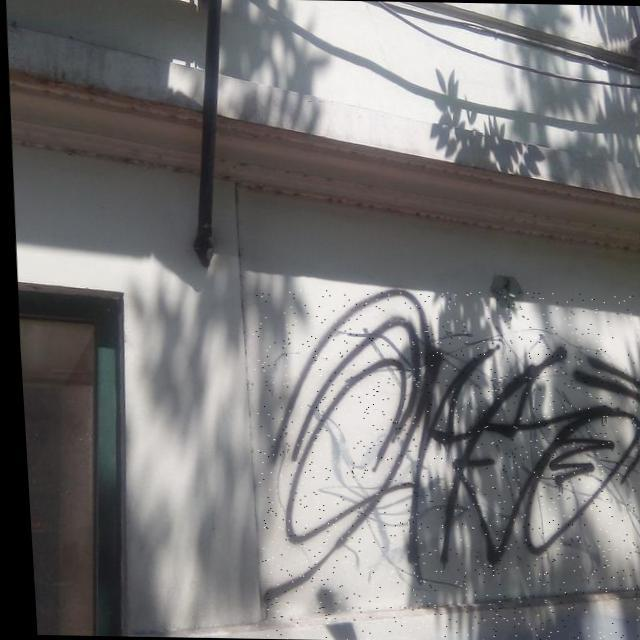-: (240, 287, 640, 640)
